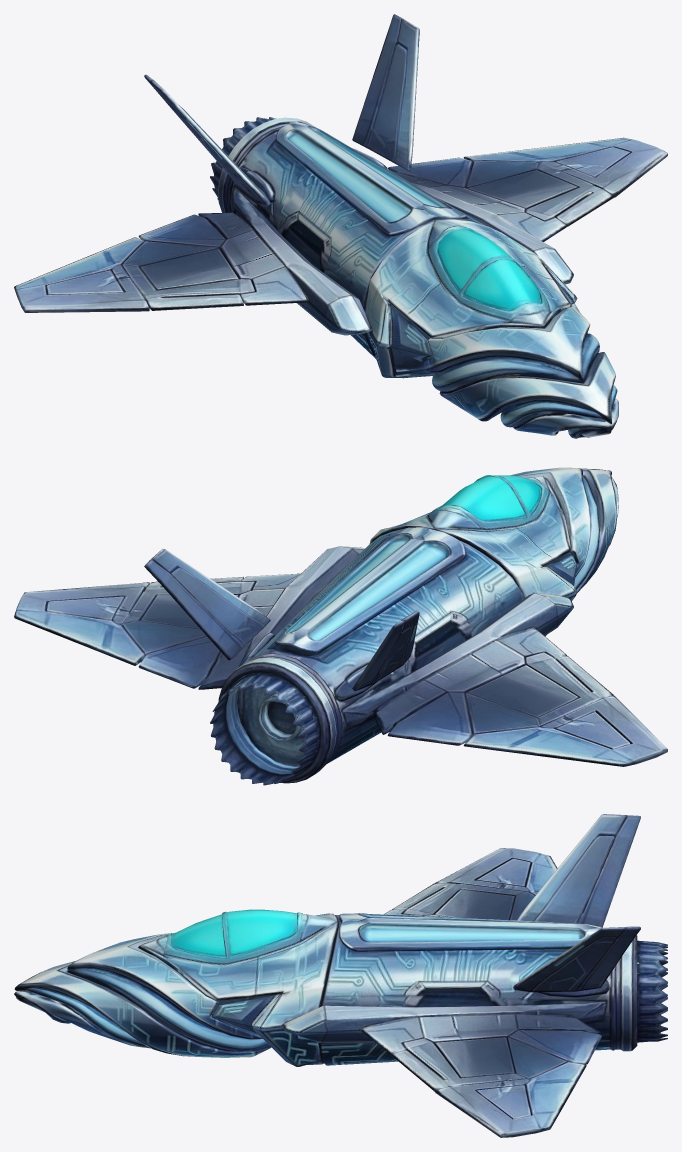
3 views of the same model, one above another, from view 1: azimuth 30°, elevation 25°; view 2: azimuth 150°, elevation 25°; view 3: azimuth 270°, elevation 25° (orthographic). The views are drawn at different scales.
Visible parts, largest first — view 1: Major Bullet; view 2: Major Bullet; view 3: Major Bullet.
Part boxes in pixels (x1,y1,x2,y2): Major Bullet: [14, 14, 667, 438]; Major Bullet: [14, 467, 667, 785]; Major Bullet: [14, 814, 667, 1137].
Size of the model in its own units: 0.9995 by 0.2954 by 0.9624.
1 material, 1 textured.
